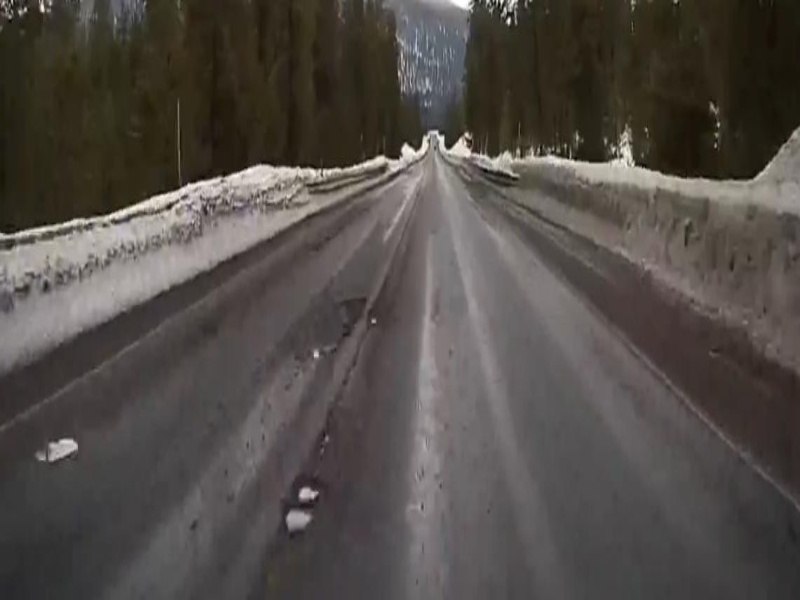pothole: (280, 477, 320, 540), (29, 432, 85, 467)
